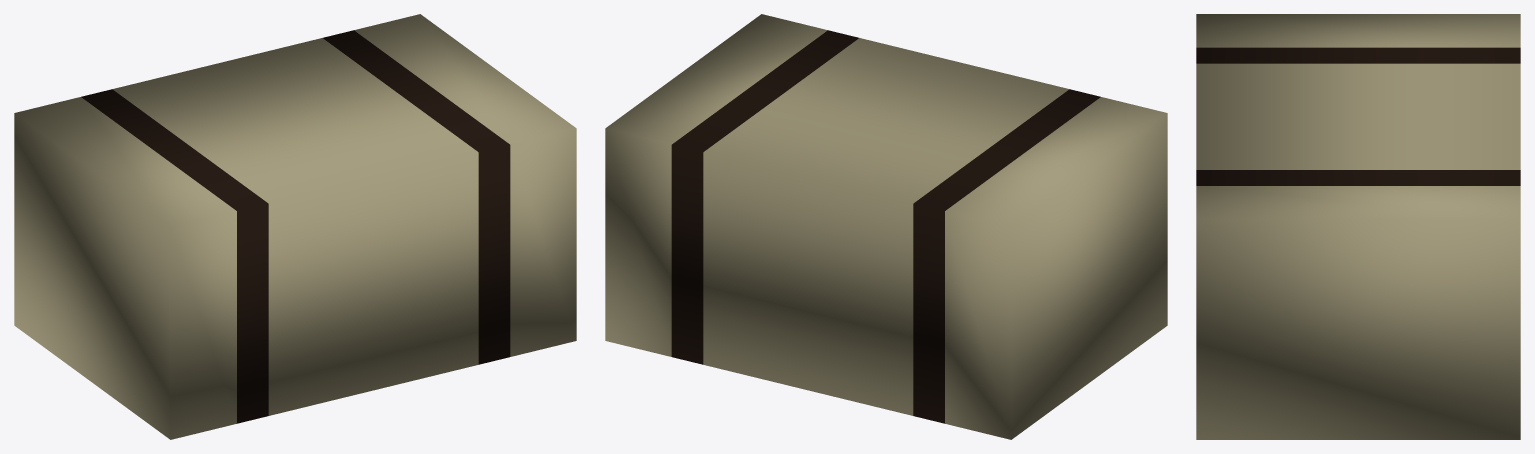
The model's file is heno.glb.
The picture shows the model from 3 angles, left to right: view 1: azimuth 30°, elevation 25°; view 2: azimuth 150°, elevation 25°; view 3: azimuth 270°, elevation 25°; orthographic projection. The views are drawn at different scales.
Parts seen in each view (by area): view 1: Heno-col; view 2: Heno-col; view 3: Heno-col.
Boxes of the visible parts, <box> form: Heno-col: <box>14,14,576,439</box>; Heno-col: <box>605,14,1167,439</box>; Heno-col: <box>1196,14,1520,439</box>.
Bounding box in the file's own units: 6 × 3 × 4.
Materials: 1 (1 with a texture image).
